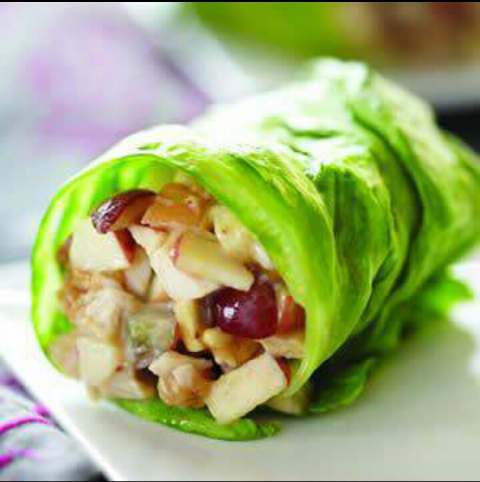chopped lettuce: (229, 79, 452, 274)
